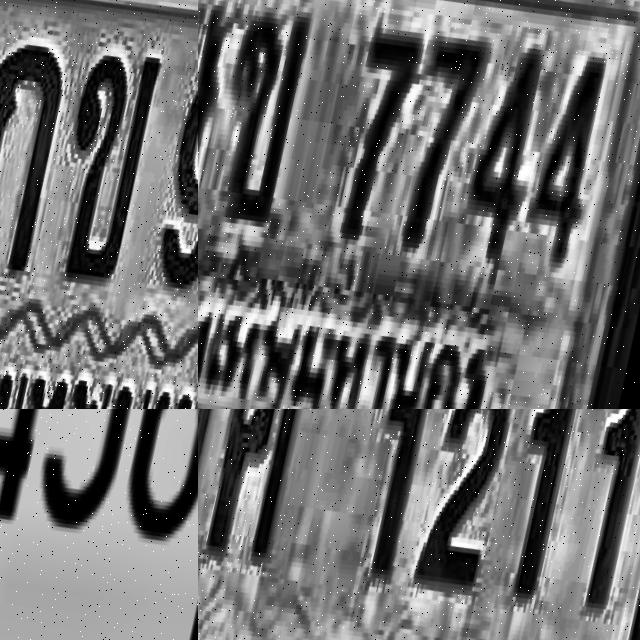license-plate: (198, 0, 640, 409), (198, 409, 640, 640), (0, 0, 198, 409), (0, 409, 198, 640)
